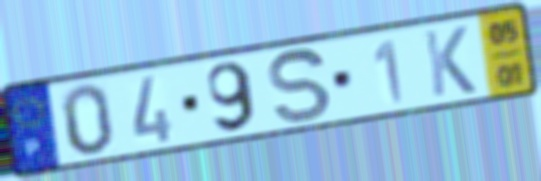0: (59, 80, 118, 159)
1: (372, 37, 406, 105)
4: (130, 73, 174, 145)
9: (205, 60, 257, 134)
K: (420, 23, 479, 100)
S: (265, 46, 334, 125)
